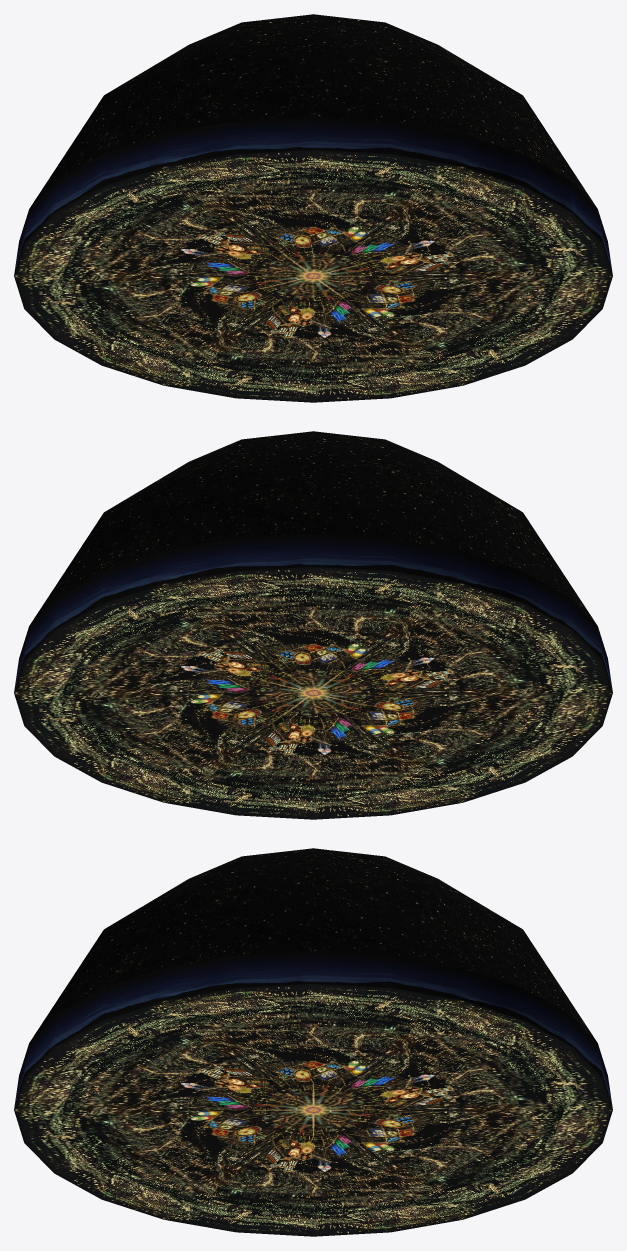
File: Casino Park Skybox 2.fbx
3 renders of one model, top to bottom at view 1: azimuth 30°, elevation 25°; view 2: azimuth 150°, elevation 25°; view 3: azimuth 270°, elevation 25°, orthographic.
Visible parts, largest first — view 1: Skybox 2; view 2: Skybox 2; view 3: Skybox 2.
Boxes of the visible parts, bbox=[...] form: Skybox 2: bbox=[14, 14, 612, 402]; Skybox 2: bbox=[14, 431, 612, 819]; Skybox 2: bbox=[14, 848, 612, 1236].
Bounding box in the file's own units: 1.5e+07 × 6466013 × 1.5e+07.
